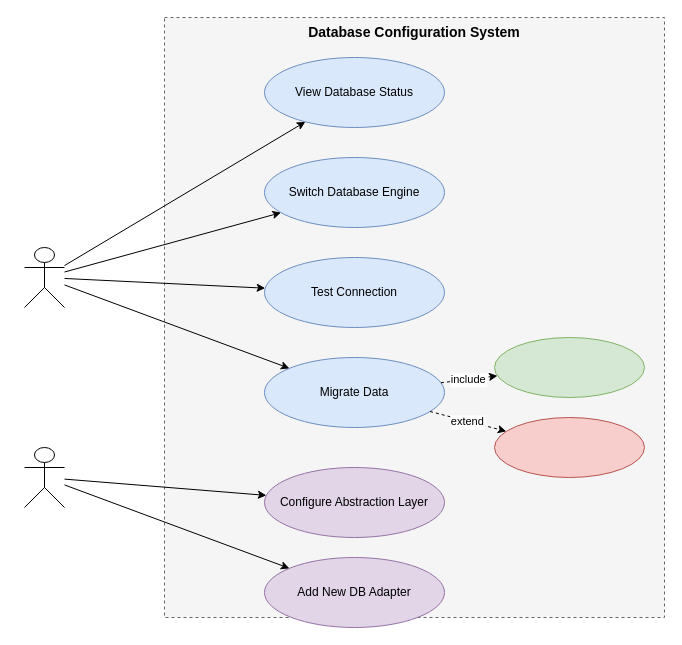
Image size: 682x645. Some labels were removed from this diagram. Each missing label, with the box of its shape:
Admin: (24, 246, 64, 308)
Developer: (24, 446, 64, 508)
Monitor Progress: (494, 336, 644, 398)
Rollback Migration: (494, 416, 644, 478)
